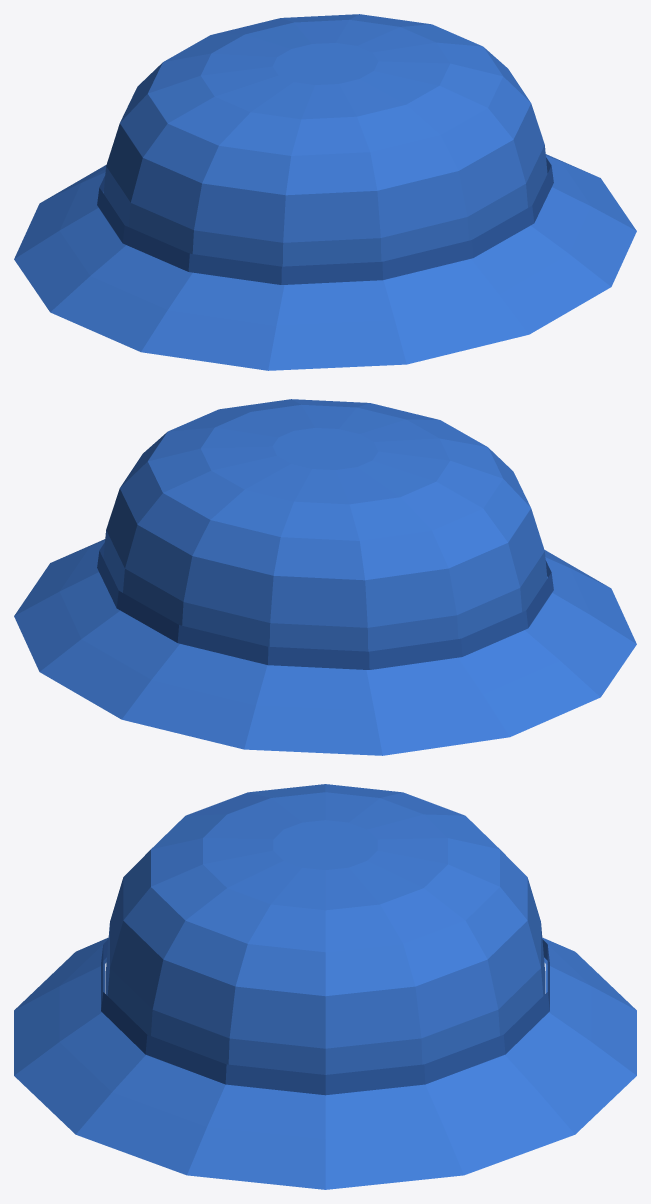
The model's file is bucket_hat.glb.
3 renders of one model, top to bottom at view 1: azimuth 30°, elevation 25°; view 2: azimuth 150°, elevation 25°; view 3: azimuth 270°, elevation 25°, orthographic. The views are drawn at different scales.
Visible parts, largest first — view 1: bucket_hat; view 2: bucket_hat; view 3: bucket_hat.
Boxes of the visible parts, x1,y1,x2,y2 form: bucket_hat: (14, 14, 636, 370); bucket_hat: (14, 399, 636, 755); bucket_hat: (14, 784, 636, 1189).
Bounding box in the file's own units: 0.82 × 0.258 × 0.7355.
